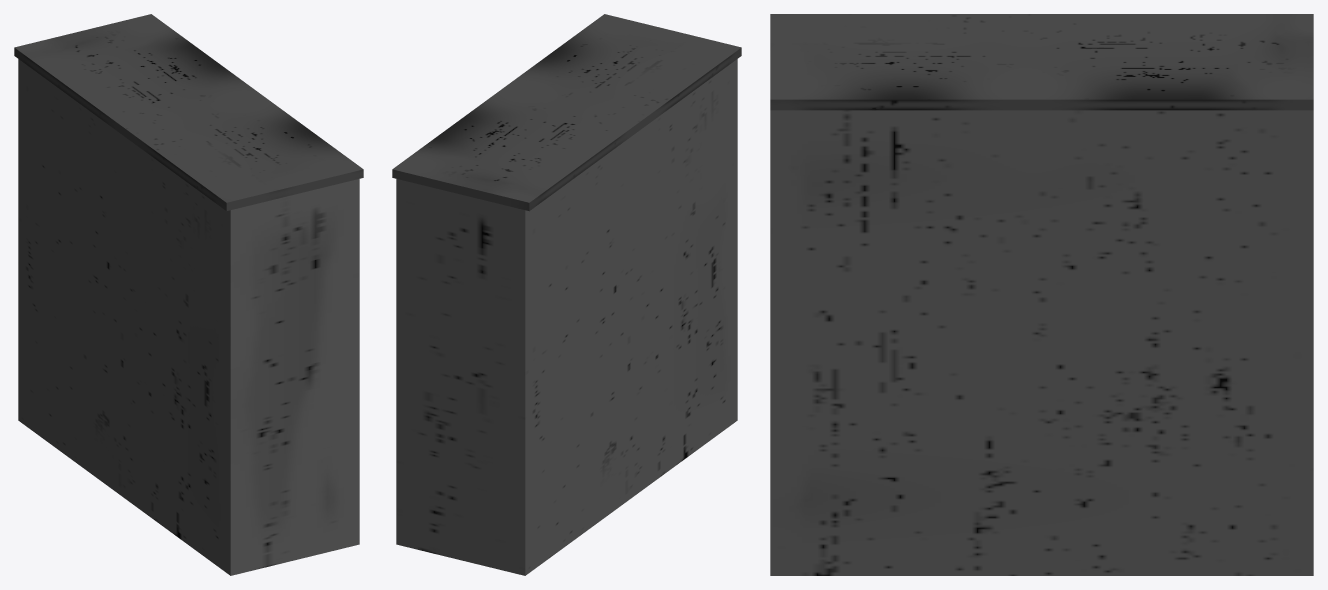
Rendered from Base_Ground_8x3_V1.fbx.
3 renders of one model, left to right at view 1: azimuth 30°, elevation 25°; view 2: azimuth 150°, elevation 25°; view 3: azimuth 270°, elevation 25°, orthographic. The views are drawn at different scales.
Visible parts, largest first — view 1: Base Ground 8x3 V1; view 2: Base Ground 8x3 V1; view 3: Base Ground 8x3 V1.
Part boxes in pixels (x1,y1,x2,y2): Base Ground 8x3 V1: [14, 14, 363, 575]; Base Ground 8x3 V1: [392, 14, 741, 575]; Base Ground 8x3 V1: [770, 14, 1313, 575].
Bounding box in the file's own units: 298 × 778 × 800.
